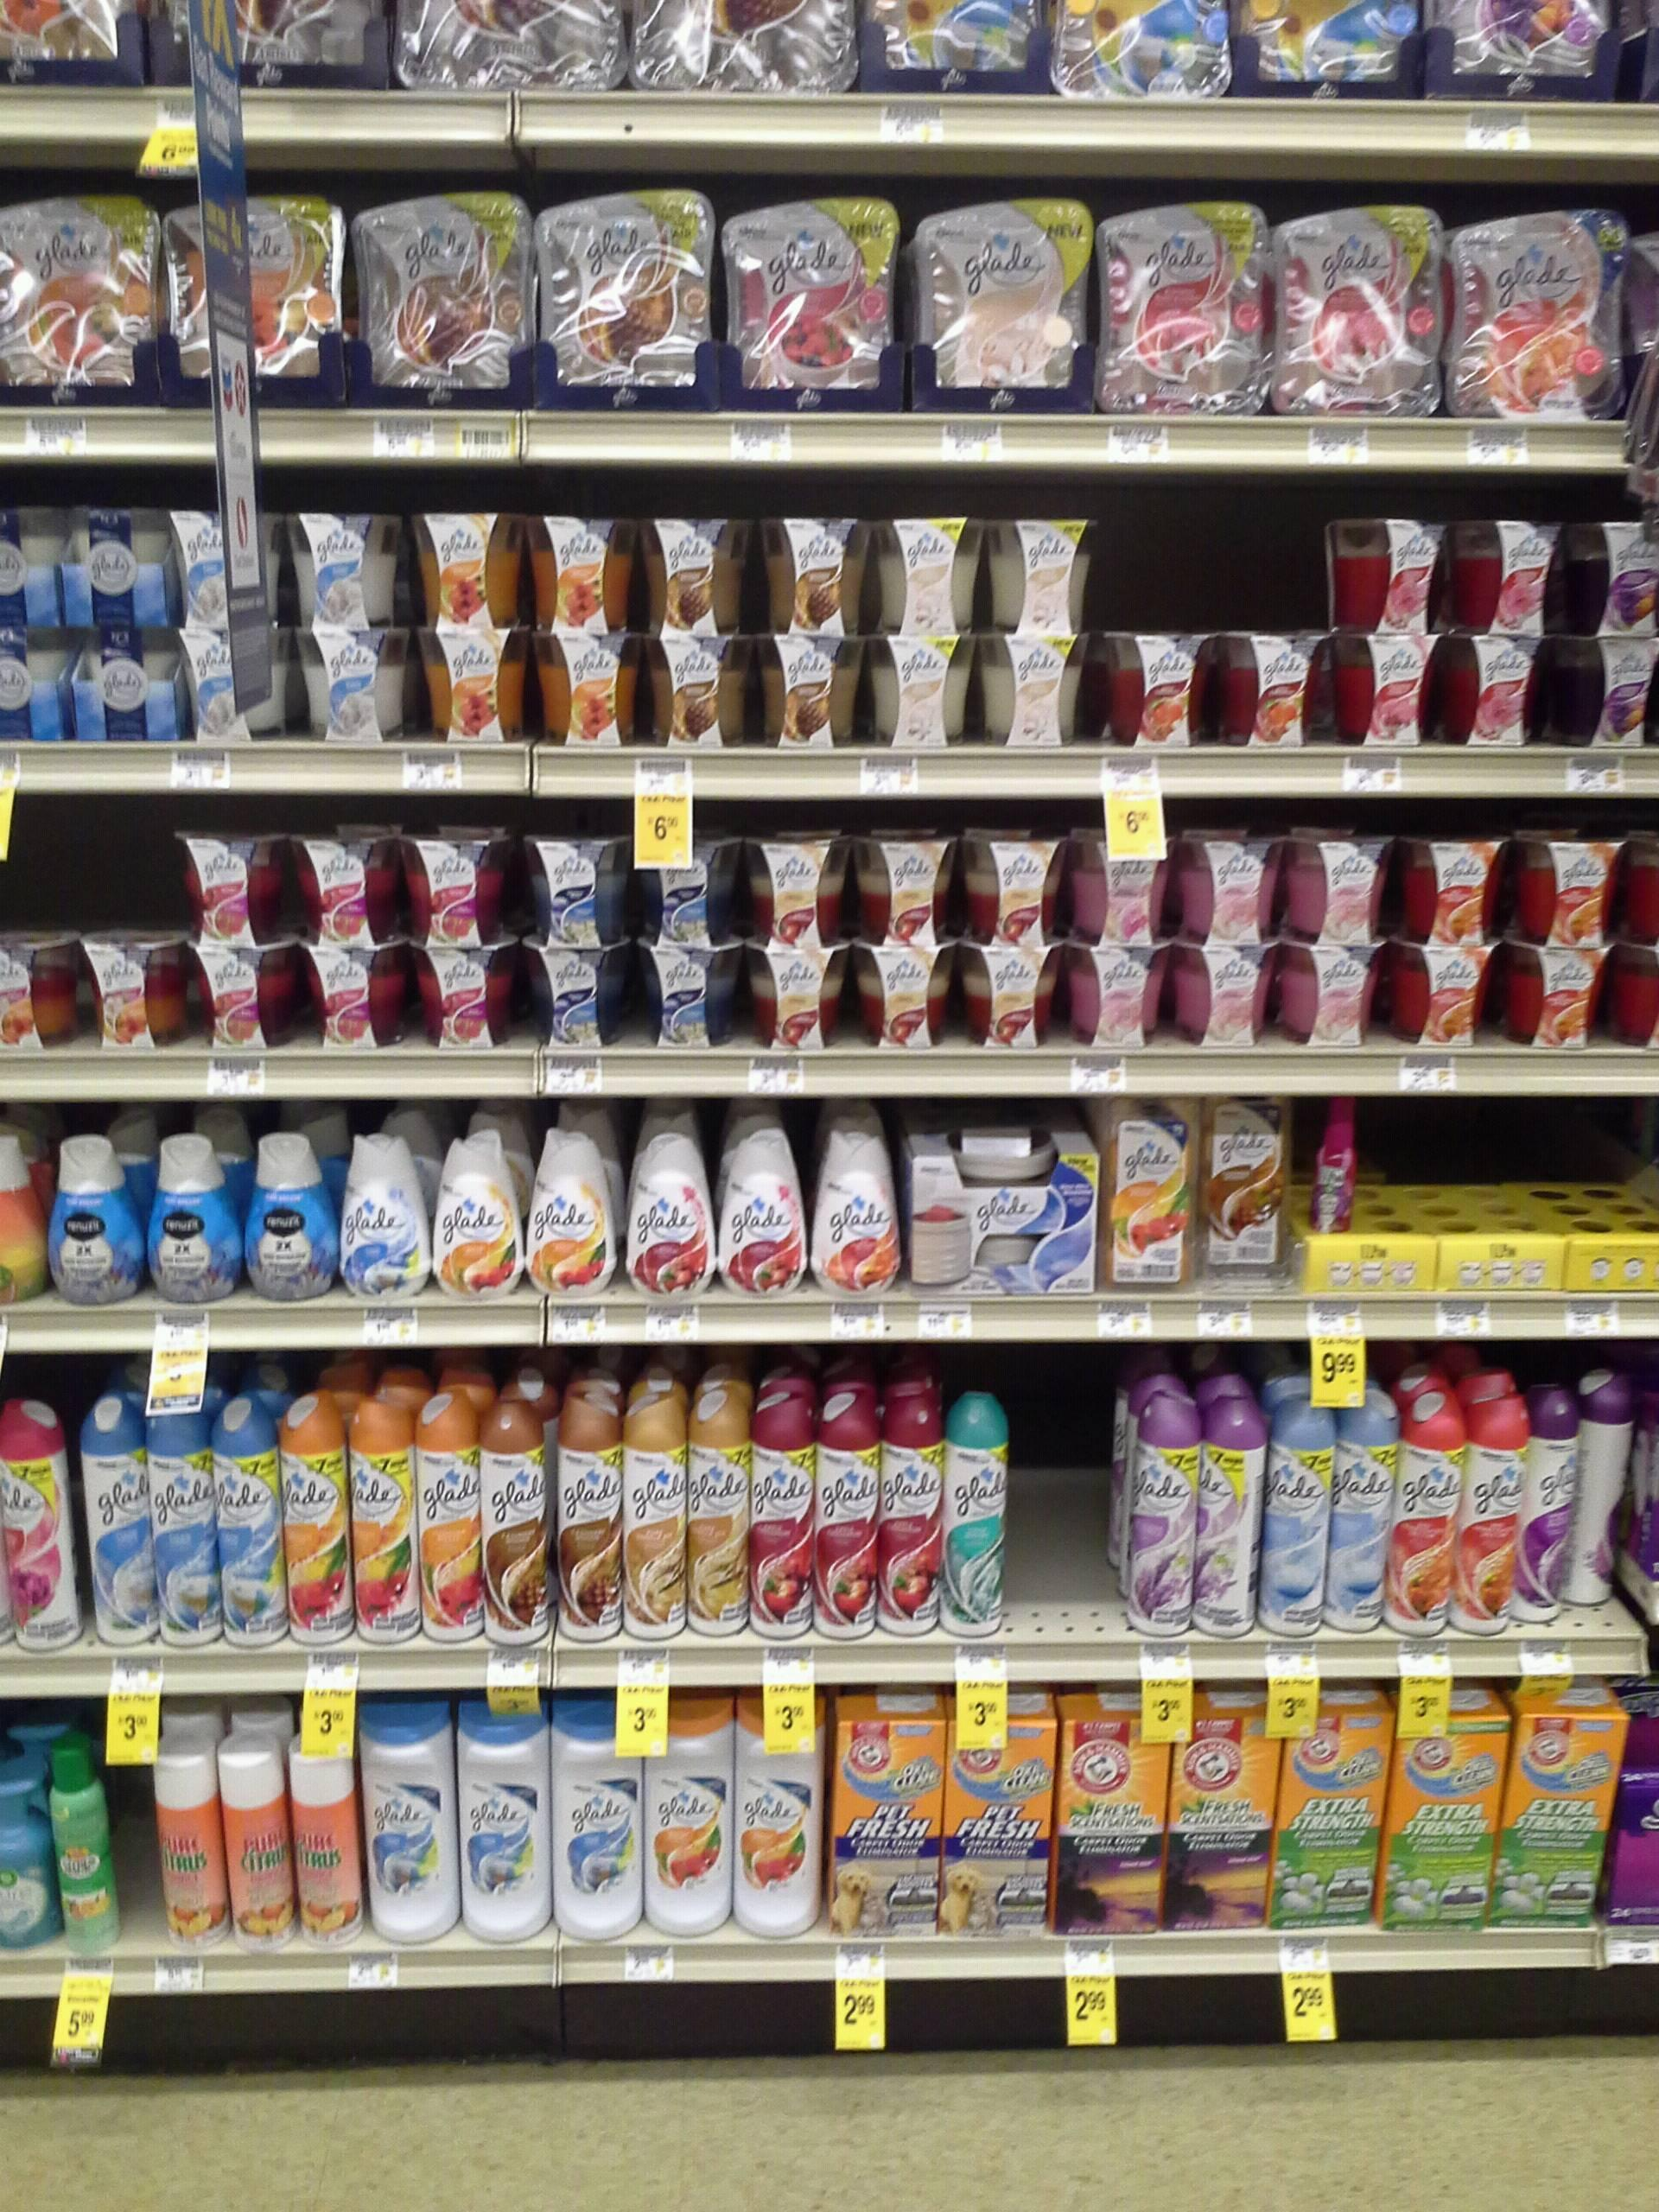empty: (1375, 1097, 1659, 1242), (1021, 1374, 1105, 1625)
misalignment: (40, 1731, 145, 1947), (1582, 1362, 1633, 1601)
